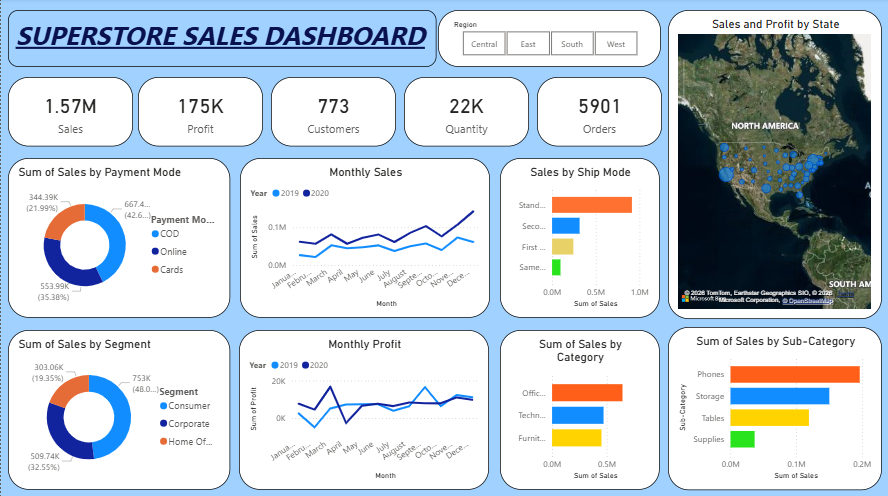

The page's visual inventory and layout, read from the dashboard file:
{"tool":"powerbi","page":{"name":"Page 1","canvas":[1280,720],"ordinal":0},"visuals":[{"type":"textbox","box":[9.9,16.9,616.9,81.7],"z":0},{"type":"slicer","fields":{"Values":["SuperStore_Sales_Dataset.Region"]},"box":[629.6,16.9,321.1,81.7],"z":1000},{"type":"map","title":"Sales and Profit by State","fields":{"Size":["Sum(SuperStore_Sales_Dataset.Sales)"],"Category":["SuperStore_Sales_Dataset.State"]},"box":[960,16.7,308.3,445],"z":2000},{"type":"card","fields":{"Values":["Sum(SuperStore_Sales_Dataset.Sales)"]},"box":[10,113.3,180,100],"z":3000},{"type":"card","fields":{"Values":["Sum(SuperStore_Sales_Dataset.Profit)"]},"box":[196.7,113.3,180,100],"z":4000},{"type":"card","fields":{"Values":["Count(SuperStore_Sales_Dataset.Customer Name)"]},"box":[388.3,113.3,180,100],"z":5000},{"type":"card","fields":{"Values":["Sum(SuperStore_Sales_Dataset.Quantity)"]},"box":[580,113.3,180,100],"z":6000},{"type":"card","fields":{"Values":["CountNonNull(SuperStore_Sales_Dataset.Order ID)"]},"box":[771.7,113.3,180,100],"z":7000},{"type":"donutChart","fields":{"Y":["Sum(SuperStore_Sales_Dataset.Sales)"],"Category":["SuperStore_Sales_Dataset.Payment Mode"]},"box":[9.9,231,320,230],"z":8000},{"type":"lineChart","title":"Monthly Sales","fields":{"Category":["SuperStore_Sales_Dataset.Ship Date.Variation.Date Hierarchy.Month"],"Y":["Sum(SuperStore_Sales_Dataset.Sales)"],"Series":["SuperStore_Sales_Dataset.Ship Date.Variation.Date Hierarchy.Year"]},"box":[343.7,231,360,230],"z":9000},{"type":"clusteredBarChart","title":"Sales by Ship Mode","fields":{"Y":["Sum(SuperStore_Sales_Dataset.Sales)"],"Category":["SuperStore_Sales_Dataset.Ship Mode"]},"box":[718.3,231,230,230],"z":10000},{"type":"donutChart","fields":{"Category":["SuperStore_Sales_Dataset.Segment"],"Y":["Sum(SuperStore_Sales_Dataset.Sales)"]},"box":[10,478.3,320,230],"z":11000},{"type":"lineChart","title":"Monthly Profit","fields":{"Y":["Sum(SuperStore_Sales_Dataset.Profit)"],"Category":["SuperStore_Sales_Dataset.Ship Date.Variation.Date Hierarchy.Month"],"Series":["SuperStore_Sales_Dataset.Ship Date.Variation.Date Hierarchy.Year"]},"box":[343.3,478.3,360,230],"z":12000},{"type":"clusteredBarChart","fields":{"Y":["Sum(SuperStore_Sales_Dataset.Sales)"],"Category":["SuperStore_Sales_Dataset.Sub-Category"]},"box":[960,473.3,308.3,235],"z":13000},{"type":"clusteredBarChart","fields":{"Y":["Sum(SuperStore_Sales_Dataset.Sales)"],"Category":["SuperStore_Sales_Dataset.Category"]},"box":[718.3,478.3,230,230],"z":14000}]}

Visuals, with their boxes in screenshot pixels (x1, y1, x2, y2), scaled from the page's 1280x720 canvas onto the 888x496 screenshot:
textbox: 7, 12, 435, 68
slicer - SuperStore_Sales_Dataset.Region: 437, 12, 660, 68
"Sales and Profit by State" map: 666, 12, 880, 318
card - Sum(SuperStore_Sales_Dataset.Sales): 7, 78, 132, 147
card - Sum(SuperStore_Sales_Dataset.Profit): 136, 78, 261, 147
card - Count(SuperStore_Sales_Dataset.Customer Name): 269, 78, 394, 147
card - Sum(SuperStore_Sales_Dataset.Quantity): 402, 78, 527, 147
card - CountNonNull(SuperStore_Sales_Dataset.Order ID): 535, 78, 660, 147
donutChart - Sum(SuperStore_Sales_Dataset.Sales) x SuperStore_Sales_Dataset.Payment Mode: 7, 159, 229, 318
"Monthly Sales" lineChart: 238, 159, 488, 318
"Sales by Ship Mode" clusteredBarChart: 498, 159, 658, 318
donutChart - SuperStore_Sales_Dataset.Segment x Sum(SuperStore_Sales_Dataset.Sales): 7, 329, 229, 488
"Monthly Profit" lineChart: 238, 329, 488, 488
clusteredBarChart - Sum(SuperStore_Sales_Dataset.Sales) x SuperStore_Sales_Dataset.Sub-Category: 666, 326, 880, 488
clusteredBarChart - Sum(SuperStore_Sales_Dataset.Sales) x SuperStore_Sales_Dataset.Category: 498, 329, 658, 488
